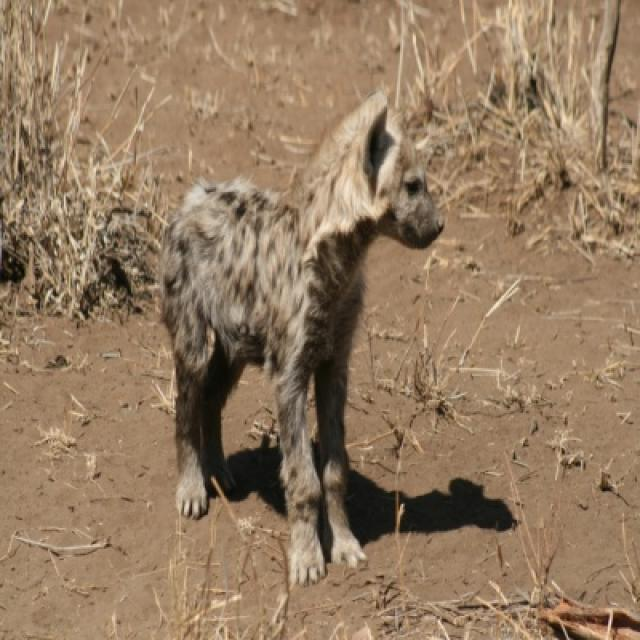hyena: (162, 91, 442, 582)
